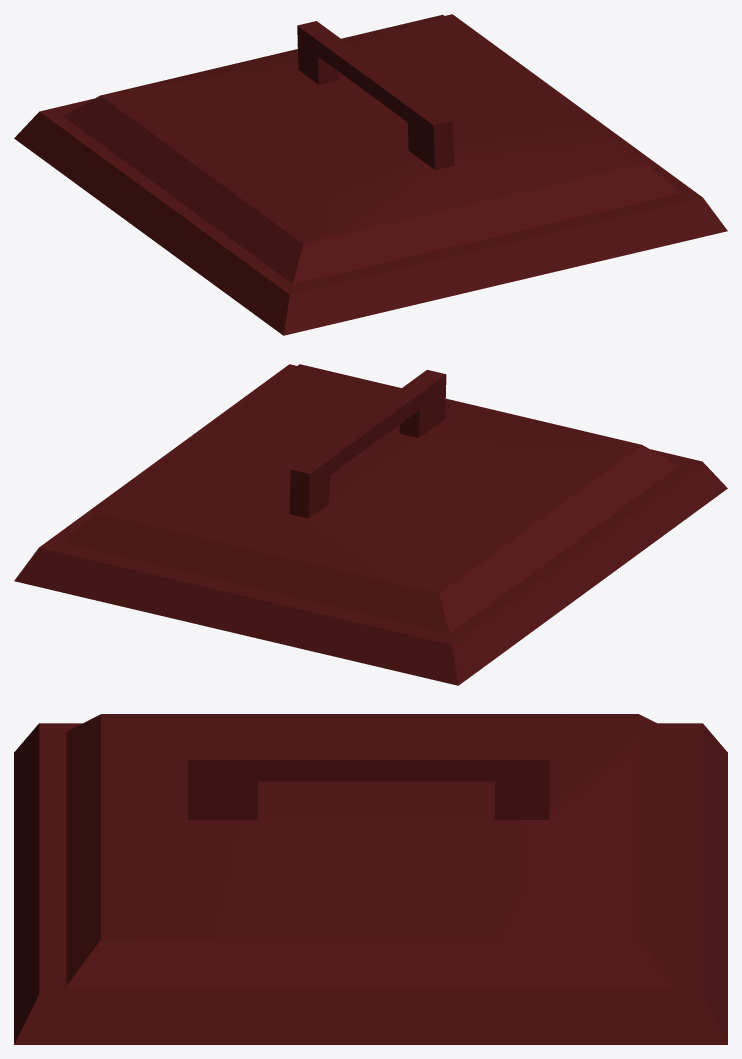
File: trashlid.FBX
The picture shows the model from 3 angles, top to bottom: view 1: azimuth 30°, elevation 25°; view 2: azimuth 150°, elevation 25°; view 3: azimuth 270°, elevation 25°; orthographic projection. The views are drawn at different scales.
Visible parts, largest first — view 1: Box003; view 2: Box003; view 3: Box003.
Boxes of the visible parts, <box> form: Box003: <box>14,14,727,335</box>; Box003: <box>14,364,727,685</box>; Box003: <box>14,714,727,1044</box>.
Size of the model in its own units: 37.78 by 9.22 by 39.7.
